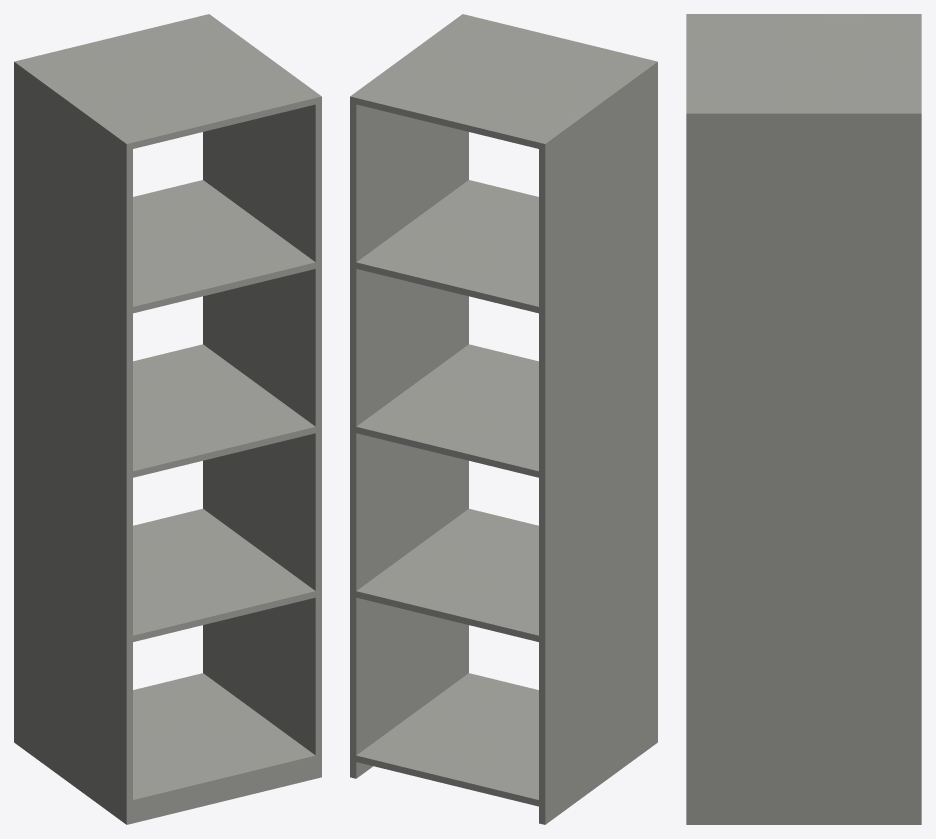
File: meuble.glb
3 views of the same model, side by side, from view 1: azimuth 30°, elevation 25°; view 2: azimuth 150°, elevation 25°; view 3: azimuth 270°, elevation 25° (orthographic). The views are drawn at different scales.
Visible parts, largest first — view 1: world; view 2: world; view 3: world.
Boxes of the visible parts, x1,y1,x2,y2 form: world: (14, 14, 321, 824); world: (350, 14, 657, 824); world: (686, 14, 921, 824).
Size of the model in its own units: 0.6 by 2 by 0.6.
Materials: 1 (1 with a texture image).
